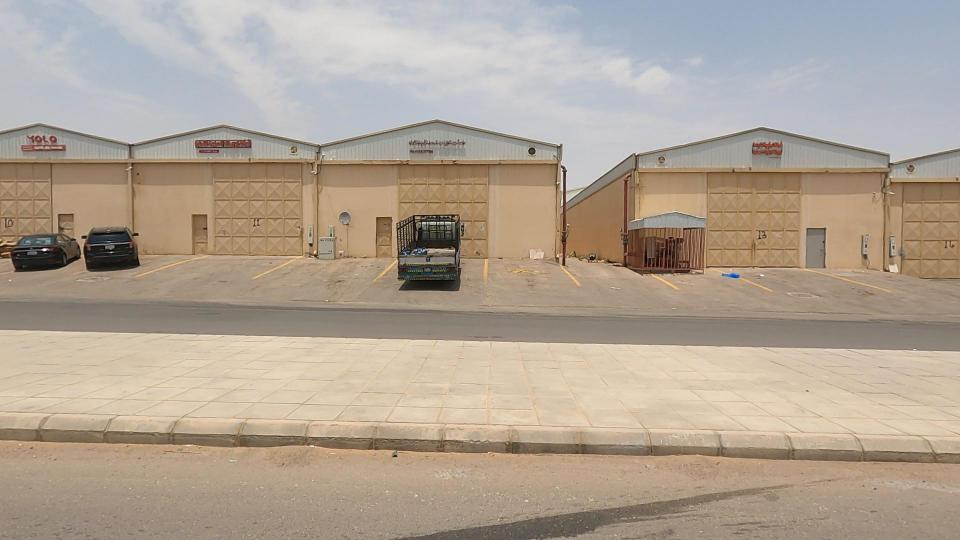GARBAGE: (697, 254, 765, 299), (735, 260, 785, 292)
